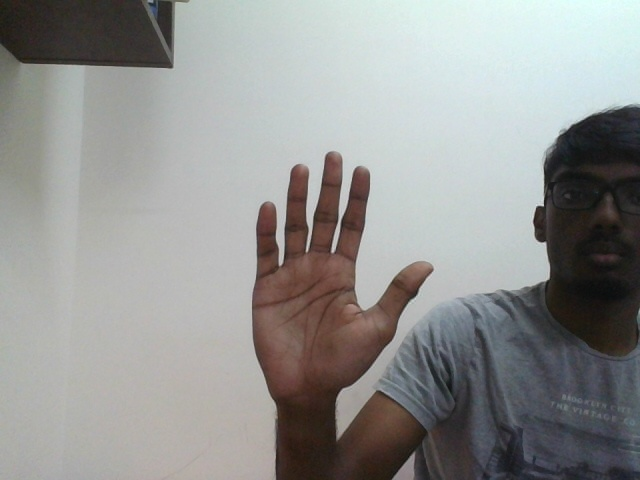Hello: (257, 150, 435, 388)
